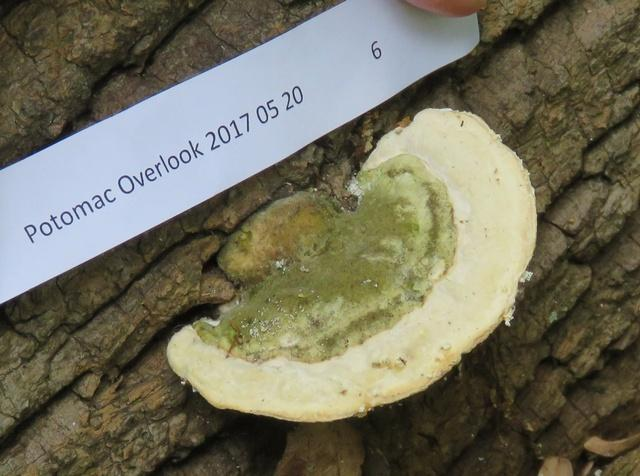Non-edible Mushroom: (164, 104, 539, 423)
